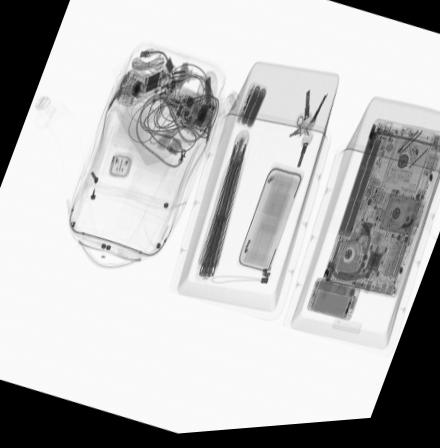Powerbank: (303, 280, 361, 327)
